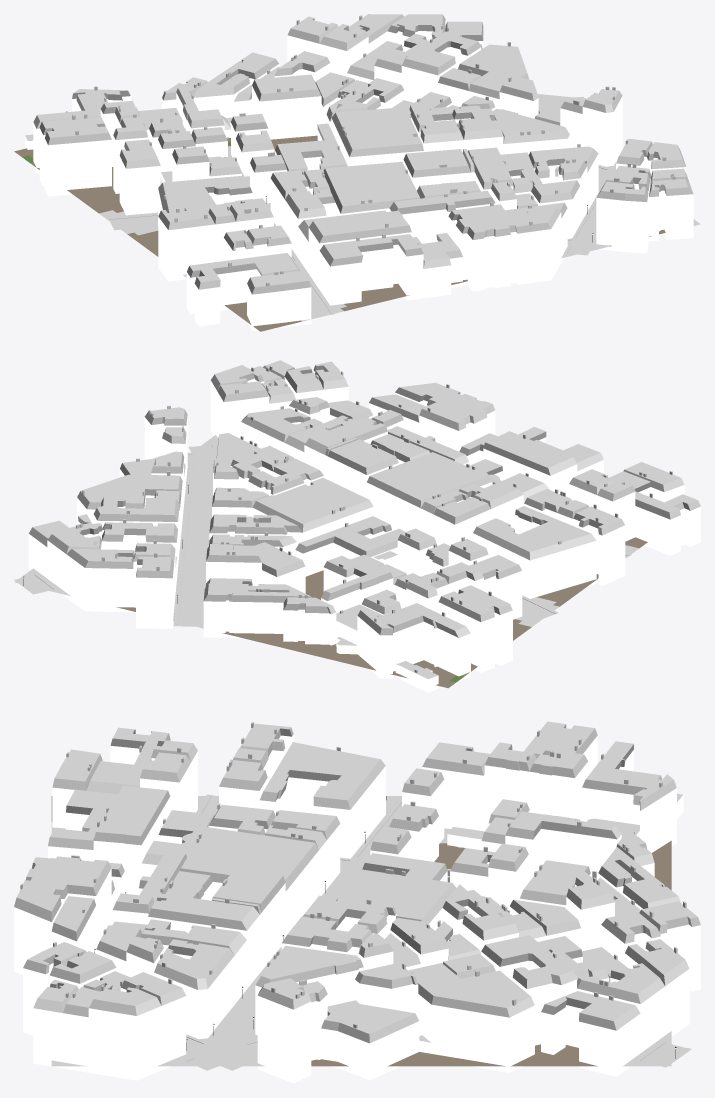
The model's file is zone_B1.glb.
The picture shows the model from 3 angles, top to bottom: view 1: azimuth 30°, elevation 25°; view 2: azimuth 150°, elevation 25°; view 3: azimuth 270°, elevation 25°; orthographic projection. The views are drawn at different scales.
Visible parts, largest first — view 1: zone_B1_batiments, zone_B1_terrain, zone_B1_sol_NOCOL; view 2: zone_B1_batiments, zone_B1_sol_NOCOL, zone_B1_terrain; view 3: zone_B1_batiments, zone_B1_sol_NOCOL, zone_B1_terrain.
Boxes of the visible parts, box(x1,y1,x2,y2) form: zone_B1_batiments: box(25, 14, 693, 331); zone_B1_terrain: box(14, 135, 700, 331); zone_B1_sol_NOCOL: box(108, 138, 615, 317); zone_B1_batiments: box(28, 360, 700, 692); zone_B1_sol_NOCOL: box(14, 442, 631, 626); zone_B1_terrain: box(14, 435, 647, 688); zone_B1_batiments: box(14, 721, 700, 1083); zone_B1_sol_NOCOL: box(56, 794, 691, 1070); zone_B1_terrain: box(51, 796, 671, 1066).
Size of the model in its own units: 212 by 28.05 by 203.
